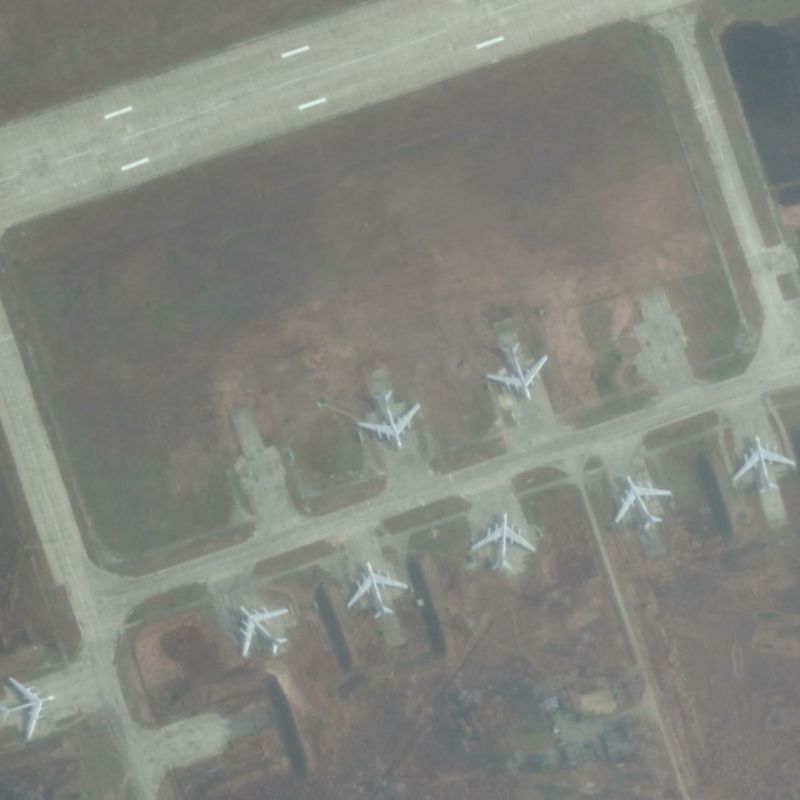A17: (469, 510, 537, 572), (356, 388, 422, 451), (485, 340, 550, 402), (731, 434, 797, 495), (346, 560, 410, 620), (1, 674, 58, 741), (613, 474, 673, 531), (237, 603, 290, 658)
